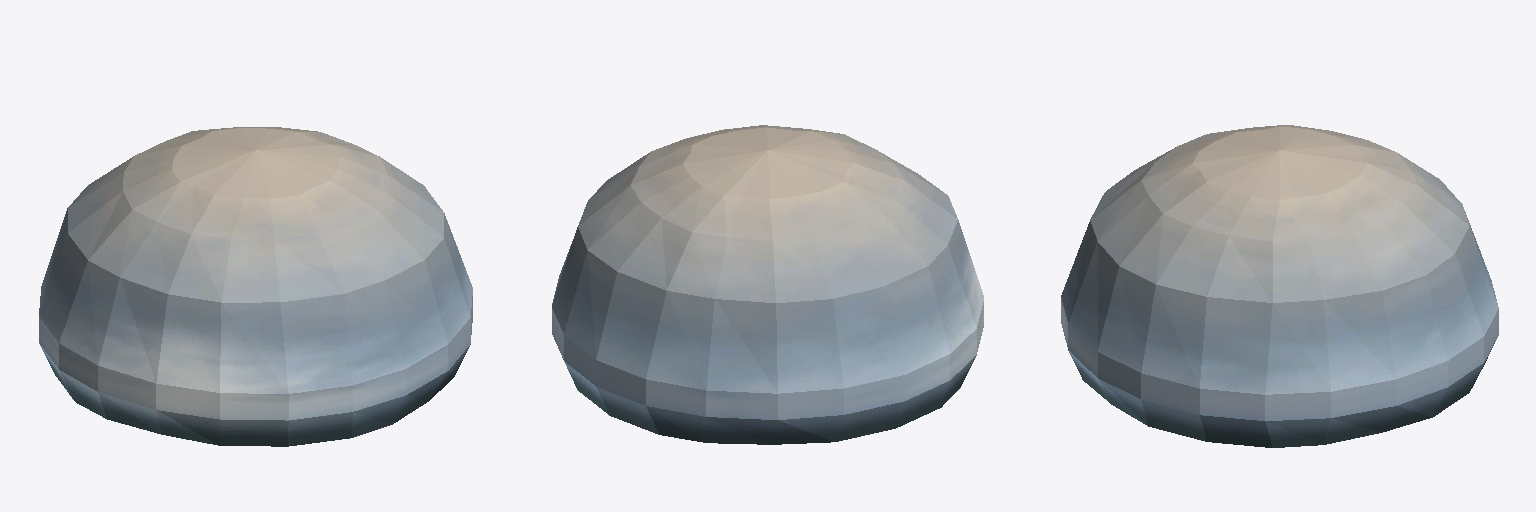
3 renders of one model, left to right at view 1: azimuth 30°, elevation 25°; view 2: azimuth 150°, elevation 25°; view 3: azimuth 270°, elevation 25°, orthographic.
Visible parts, largest first — view 1: Node 0; view 2: Node 0; view 3: Node 0.
Part boxes in pixels (left/top/right/bottom): Node 0: left=39, top=127, right=472, bottom=446; Node 0: left=552, top=125, right=983, bottom=444; Node 0: left=1061, top=125, right=1498, bottom=447.
Size of the model in its own units: 0.6 by 0.32 by 0.6.
Materials: 8 (2 with a texture image).